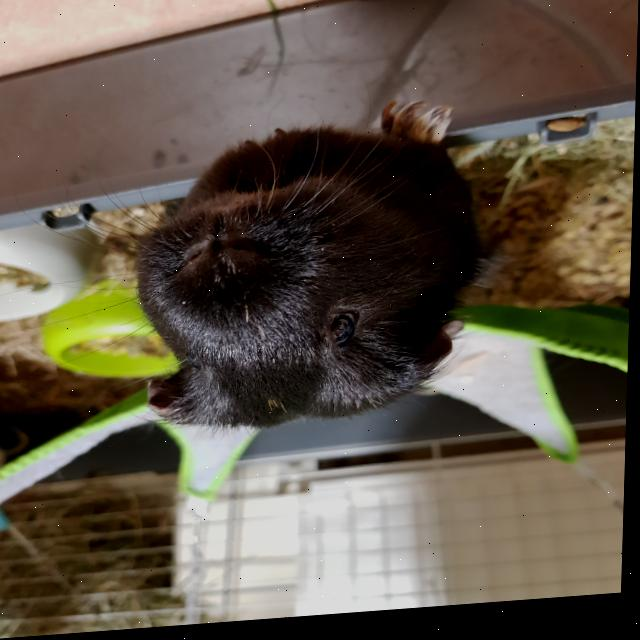guinea pig: (129, 98, 500, 444)
